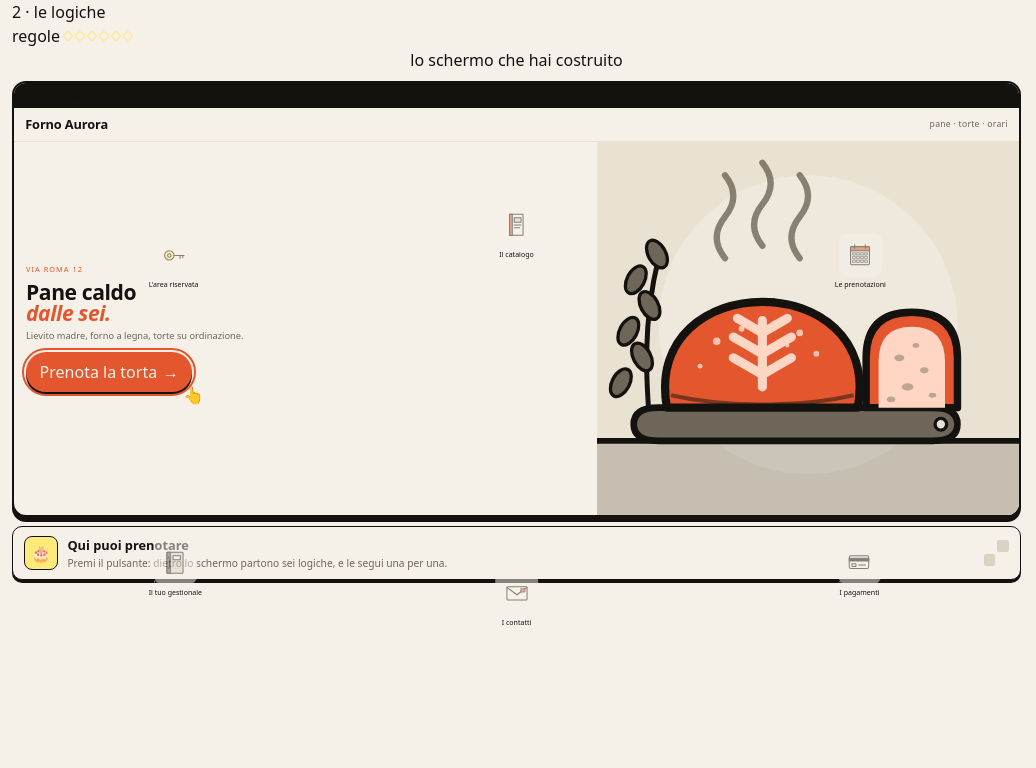
le logiche, i sei nodi › tornando a un nodo gia' fatto e rotto l'errore non c'e', c'e' il badge
The width and height of the screenshot is (1036, 768).
Click the button "Prenota la torta → 👆": (109, 372) [26,352,192,392]
(page scrolled)
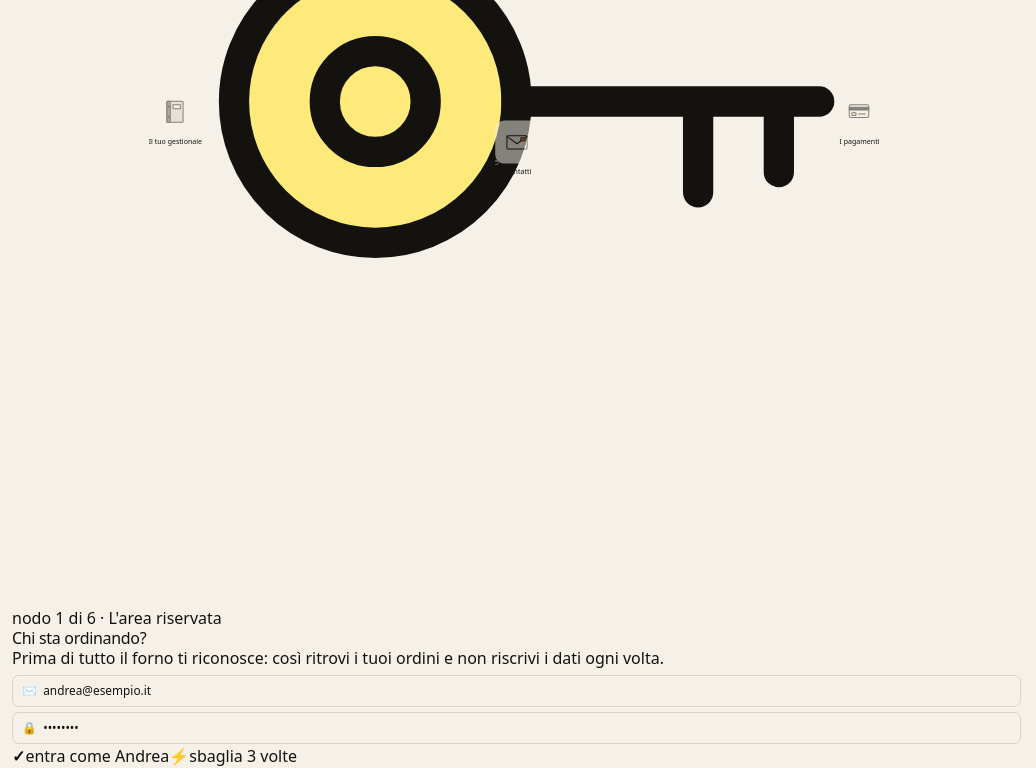
Click the button "⚡sbaglia 3 volte": (233, 756) [169,744,297,767]
(page scrolled)
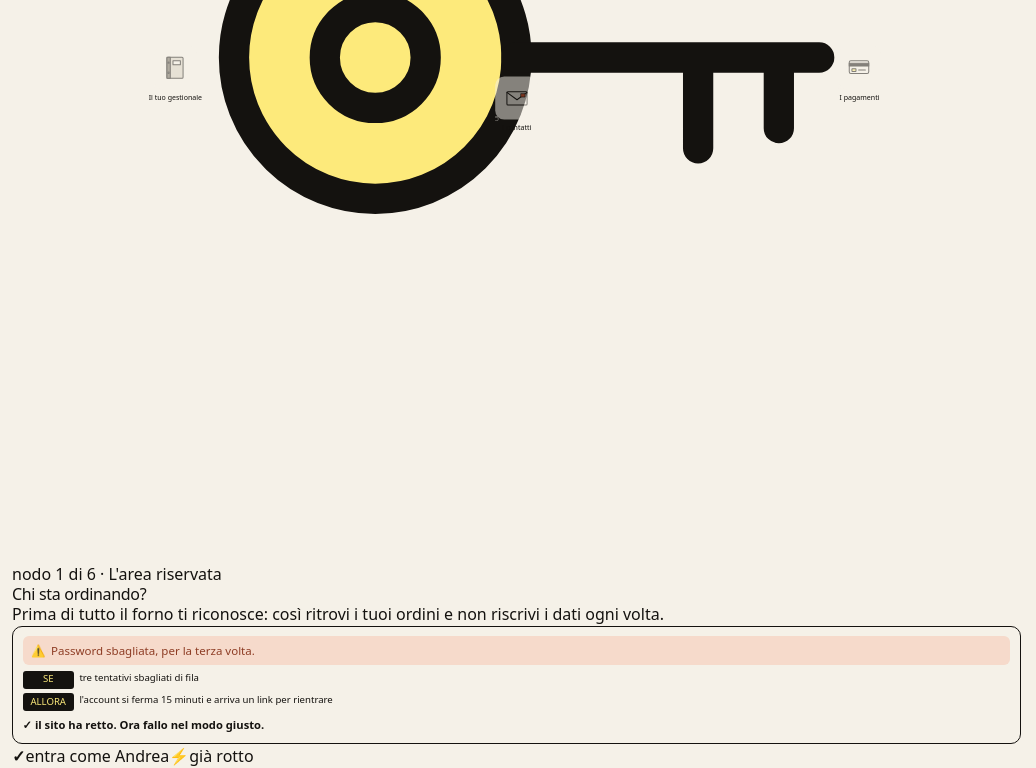
Click the button "✓entra come Andrea": (91, 756) [12,744,169,767]
(page scrolled)
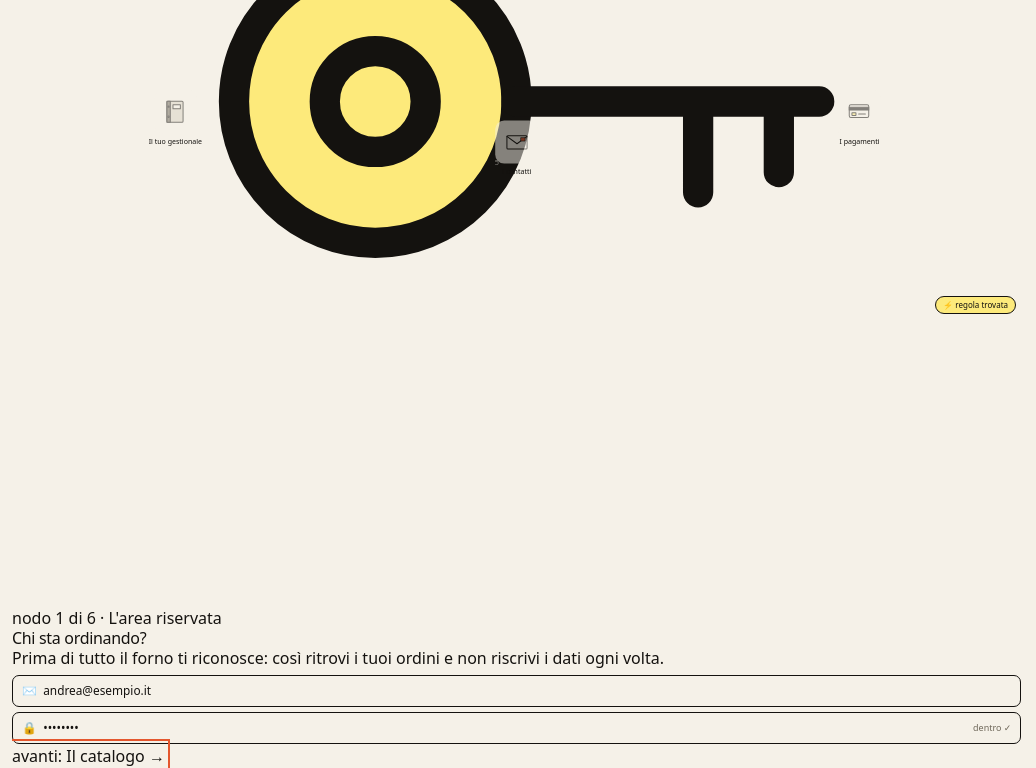
Click the button "avanti: Il catalogo →": (88, 756) [12,744,165,767]
(page scrolled)
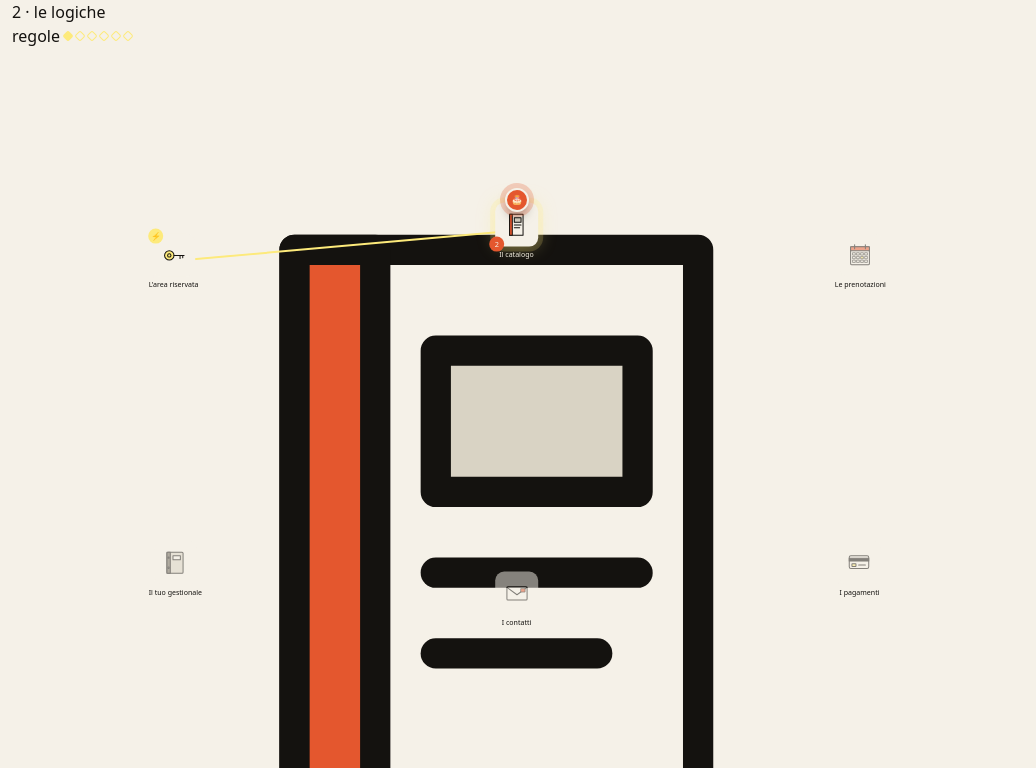
Click the button "1 L'area riservata": (173, 261) [149,234,198,288]
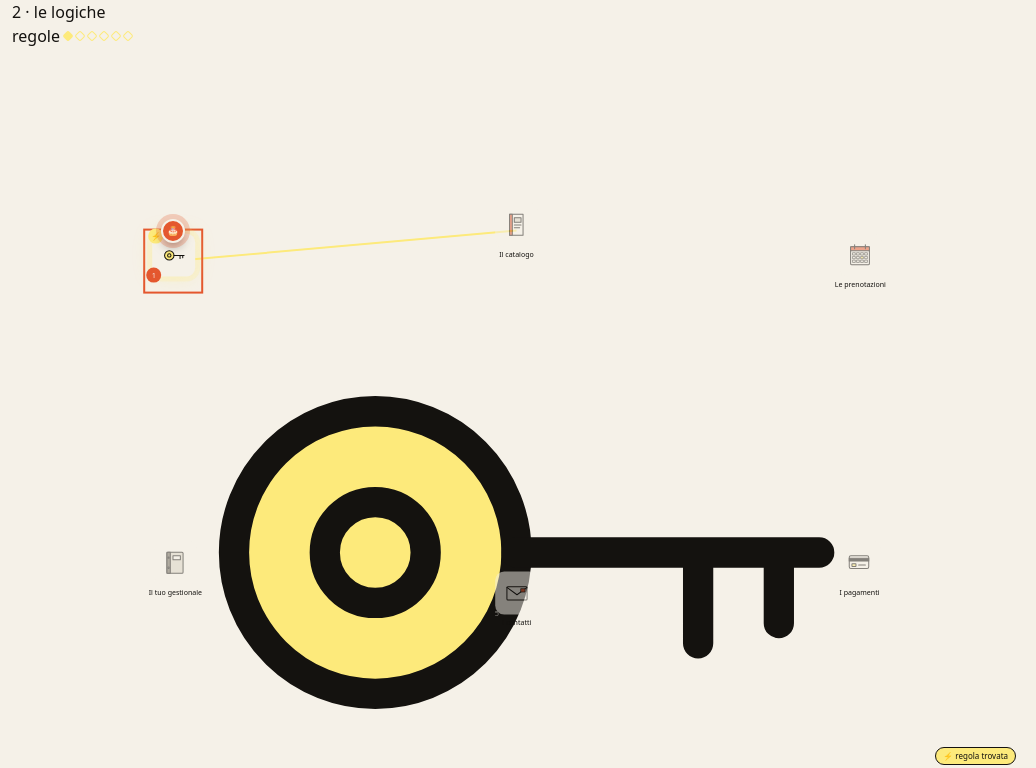
Expected: the text "Password sbagliata, per la terza volta." is not shown
Now the text "regola trovata" is shown, box [955,750,1008,761]
